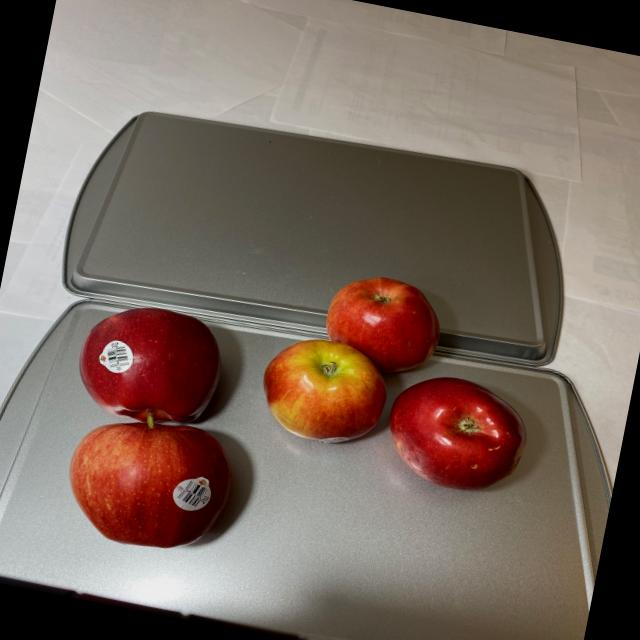apple: (248, 256, 560, 503), (36, 289, 265, 566)
